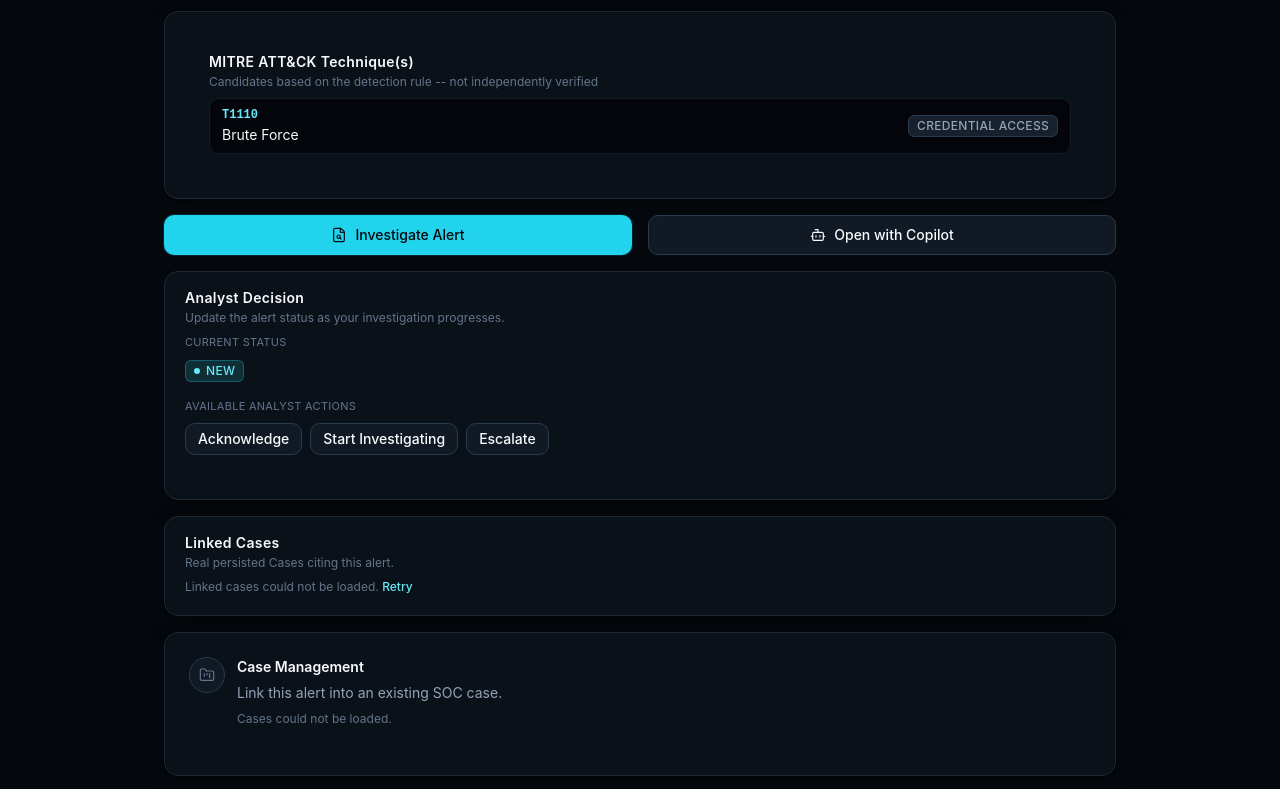
Test: Step 12L: Alert Triage Workflow & Analyst Decision Center › 4. a successful server response updates the displayed current status without a page reload
(page scrolled)
Click the button "Acknowledge". click: (244, 438)
box: [185,422,302,454]
(page scrolled)
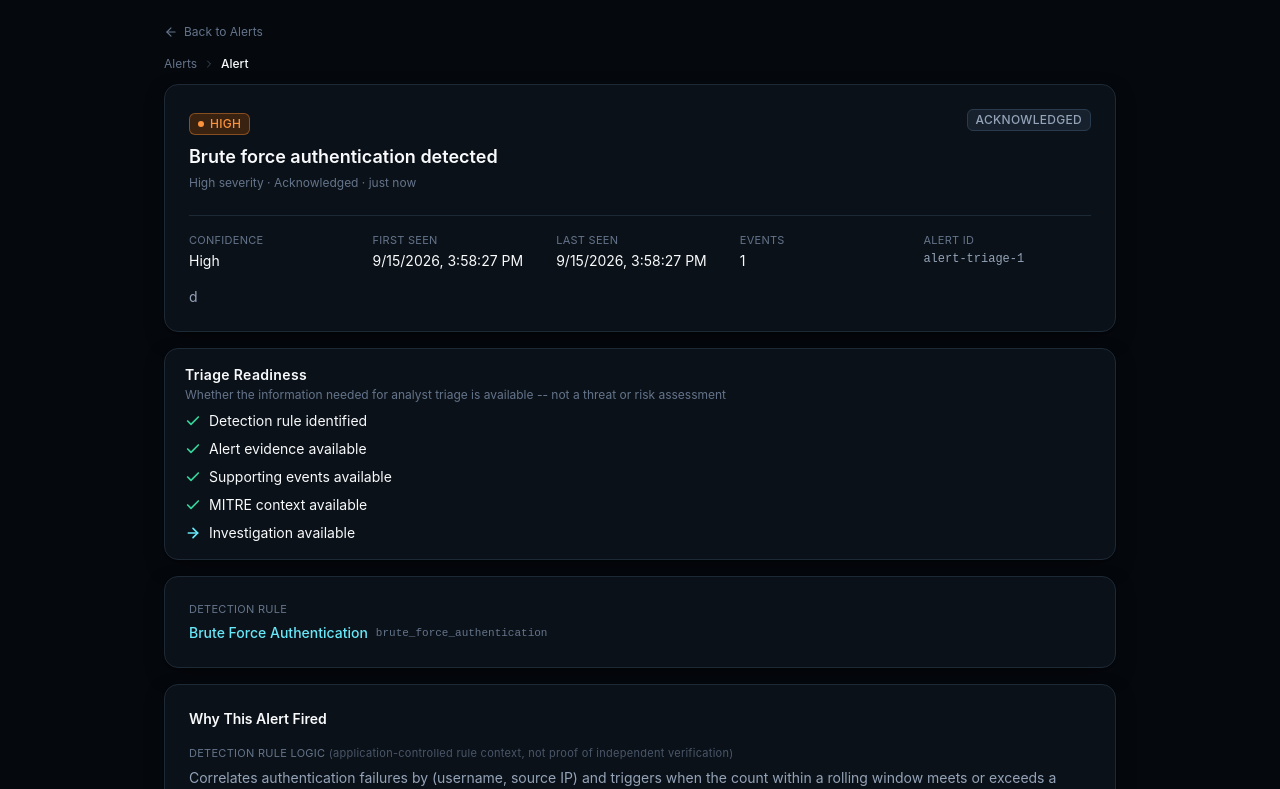
Now the text "acknowledged" is shown, box [966,109,1091,131]
